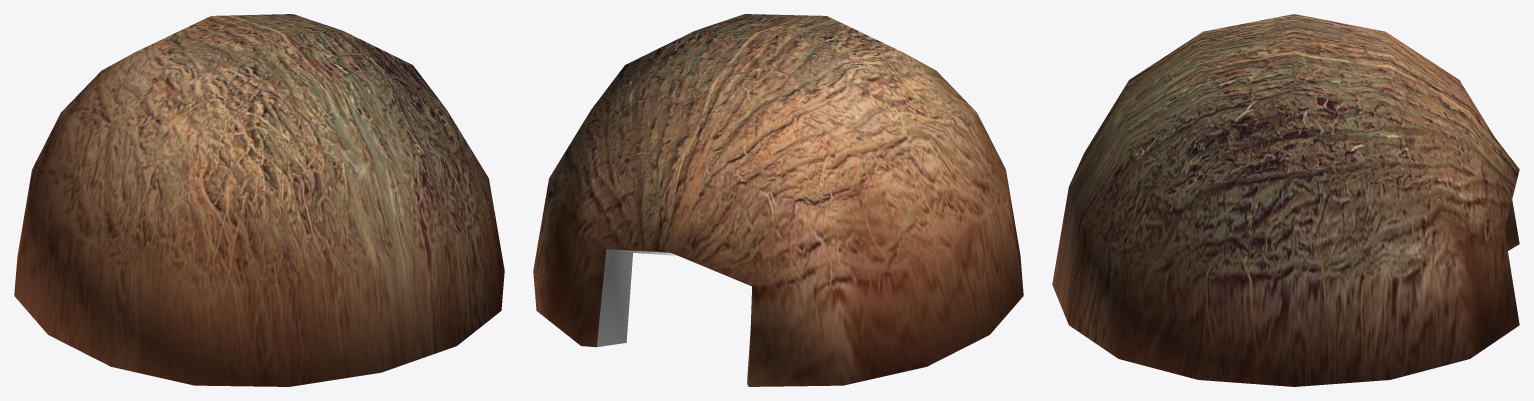
The model's file is coconut.glb.
3 views of the same model, side by side, from view 1: azimuth 30°, elevation 25°; view 2: azimuth 150°, elevation 25°; view 3: azimuth 270°, elevation 25° (orthographic).
Parts seen in each view (by area): view 1: Cube; view 2: Cube; view 3: Cube.
Boxes of the visible parts, x1=… form: Cube: x1=14, y1=14, x2=504, y2=386; Cube: x1=533, y1=14, x2=1023, y2=386; Cube: x1=1052, y1=14, x2=1519, y2=386.
Size of the model in its own units: 0.6332 by 0.367 by 0.6115.
Materials: 2 (1 with a texture image).
